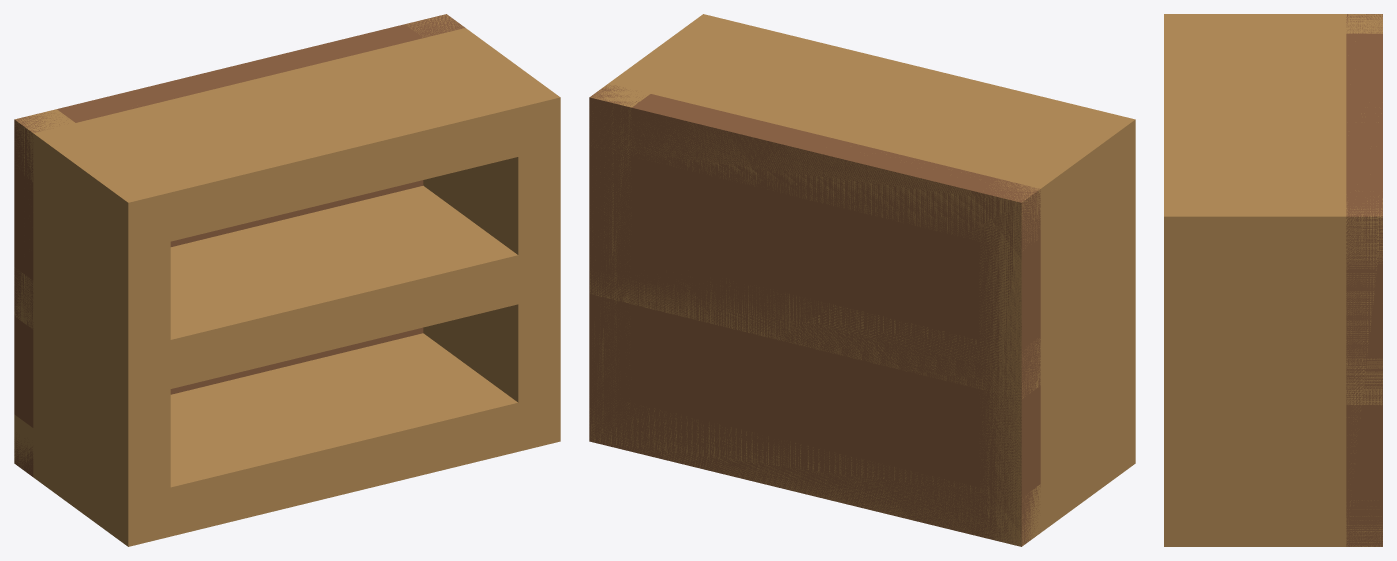
File: wall_shelf.glb
3 views of the same model, side by side, from view 1: azimuth 30°, elevation 25°; view 2: azimuth 150°, elevation 25°; view 3: azimuth 270°, elevation 25° (orthographic). The views are drawn at different scales.
Visible parts, largest first — view 1: shelf.008, shelf.007, shelf.006, upright.004, upright.005, back.002; view 2: back.002, shelf.008, upright.004, shelf.006, shelf.007, upright.005; view 3: upright.005, shelf.008, back.002, shelf.007, shelf.006, upright.004.
Boxes of the visible parts, bbox=[...] form: shelf.008: bbox=[14, 38, 560, 251]; shelf.007: bbox=[14, 185, 560, 398]; shelf.006: bbox=[14, 333, 550, 546]; upright.004: bbox=[15, 109, 170, 546]; upright.005: bbox=[405, 14, 560, 451]; back.002: bbox=[14, 14, 465, 476]; back.002: bbox=[589, 84, 1040, 546]; shelf.008: bbox=[594, 24, 1135, 250]; upright.004: bbox=[979, 109, 1135, 546]; shelf.006: bbox=[589, 400, 1135, 545]; shelf.007: bbox=[590, 267, 1135, 398]; upright.005: bbox=[590, 14, 744, 443]; upright.005: bbox=[1164, 196, 1382, 546]; shelf.008: bbox=[1164, 14, 1382, 263]; back.002: bbox=[1346, 14, 1382, 546]; shelf.007: bbox=[1164, 358, 1382, 405]; shelf.006: bbox=[1164, 499, 1382, 546]; upright.004: bbox=[1164, 14, 1382, 33].
Size of the model in its own units: 0.92 by 0.7 by 0.42.
